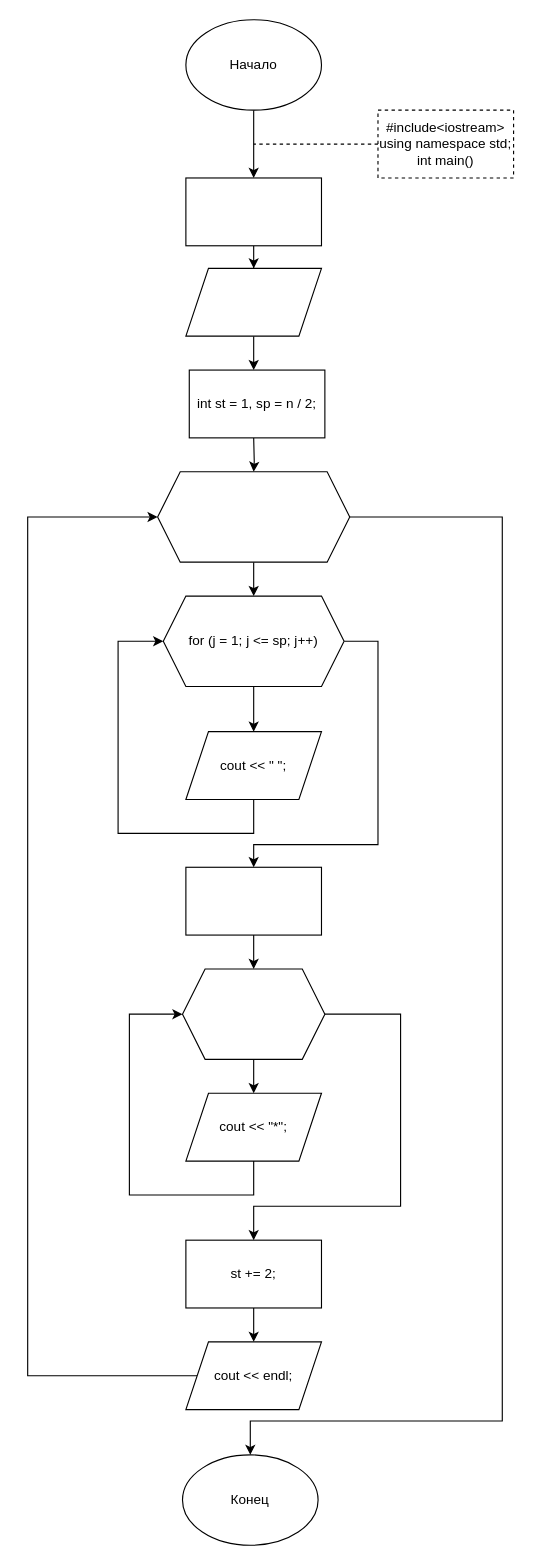
This 533x1565 diagram has some shape labels left out. The shapes that lost their labels are listed below. From the top down, each one's centre as x and y in pixels, then its label:
pixel 253 211: int j, i, n;
pixel 253 301: cin >> n;
pixel 253 516: for (i = 1; i <= (n + 1) / 2; i++)
pixel 253 900: sp -= 1;
pixel 253 1013: for (j = 1; j <= st; j++)
